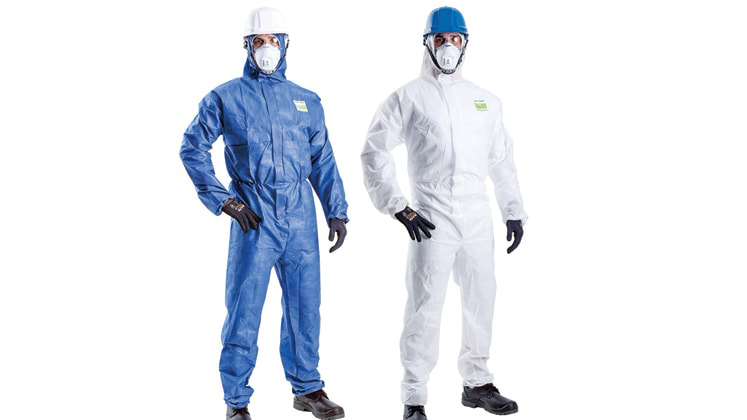Coverall: (183, 9, 344, 399), (367, 7, 520, 390)
Gloves: (215, 194, 264, 234), (392, 205, 437, 244), (321, 210, 351, 255), (500, 214, 530, 255)
with_mask: (430, 34, 464, 76), (246, 41, 283, 76)
